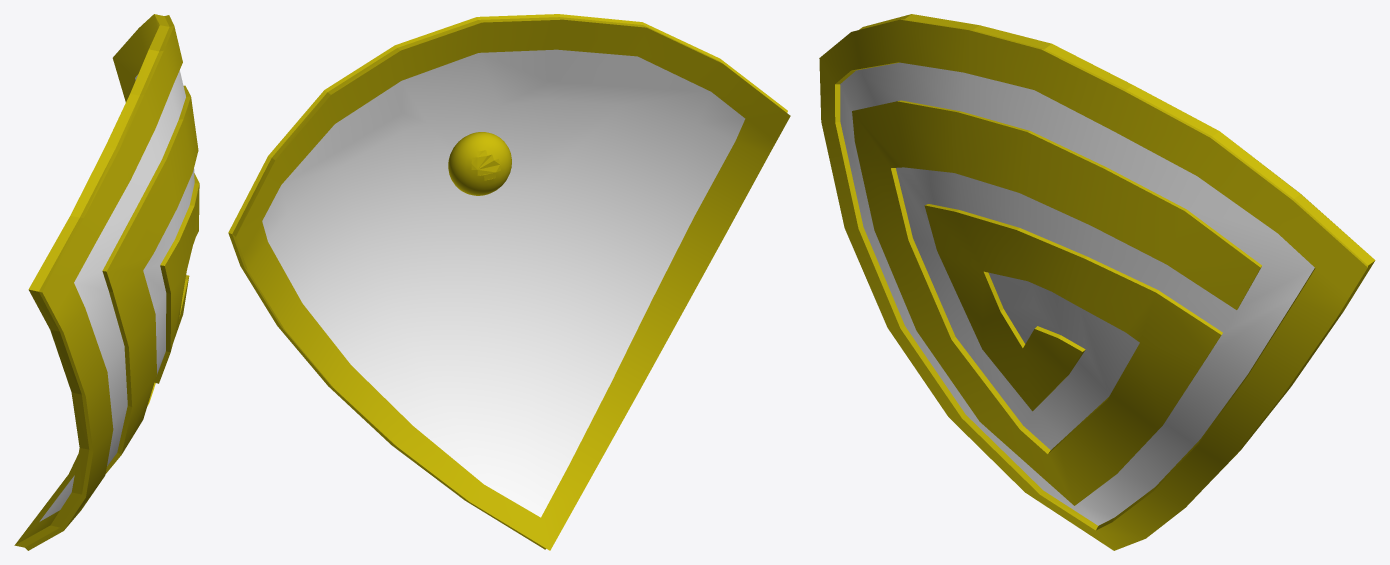
File: PataDelIz.FBX
The picture shows the model from 3 angles, left to right: view 1: azimuth 30°, elevation 25°; view 2: azimuth 150°, elevation 25°; view 3: azimuth 270°, elevation 25°; orthographic projection. The views are drawn at different scales.
Parts seen in each view (by area): view 1: PataDlIz; view 2: PataDlIz; view 3: PataDlIz.
Boxes of the visible parts, x1=… form: PataDlIz: x1=14, y1=14, x2=199, y2=550; PataDlIz: x1=228, y1=14, x2=790, y2=550; PataDlIz: x1=819, y1=14, x2=1375, y2=550.
Size of the model in its own units: 0.3989 by 0.5593 by 0.5053.
